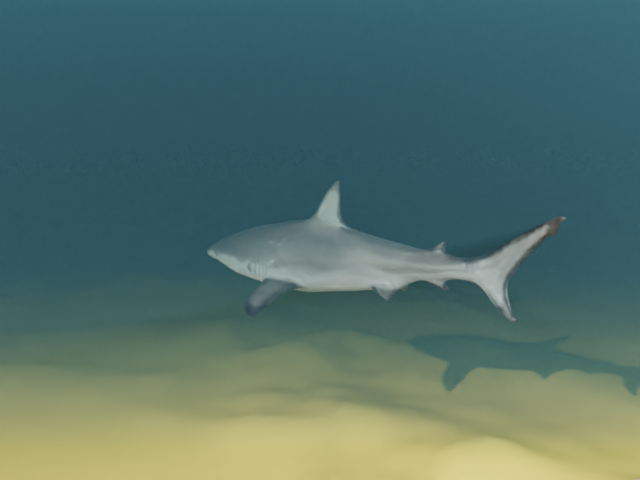Carribean Shark.001: (207, 180, 565, 321)
